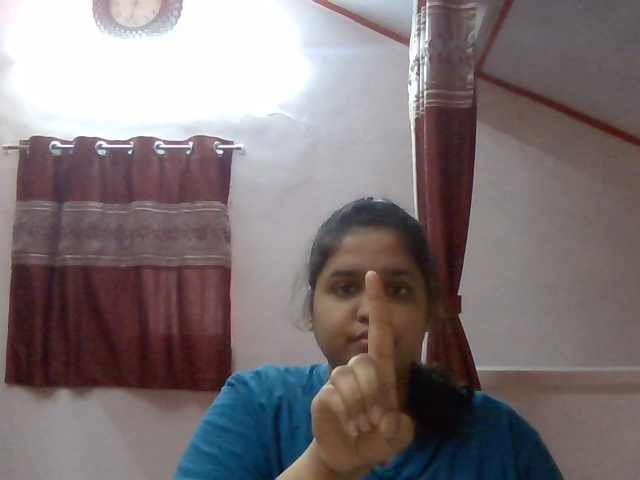d: (316, 264, 416, 468)
